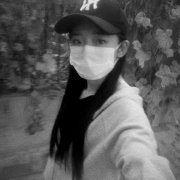face_mask: (68, 22, 117, 80)
